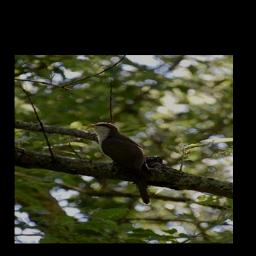Cuckoo: (81, 121, 154, 206)
